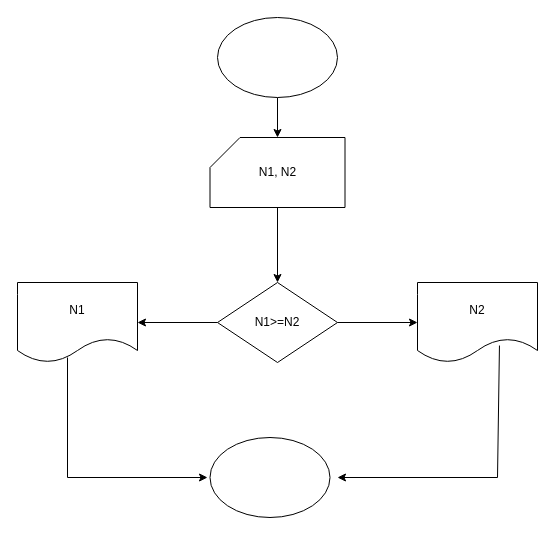
Image size: 555x535. Some labels were removed from this diagram. Each missing label, with the centre of its shape:
FIM: point (269, 477)
Inicio: point (277, 57)
